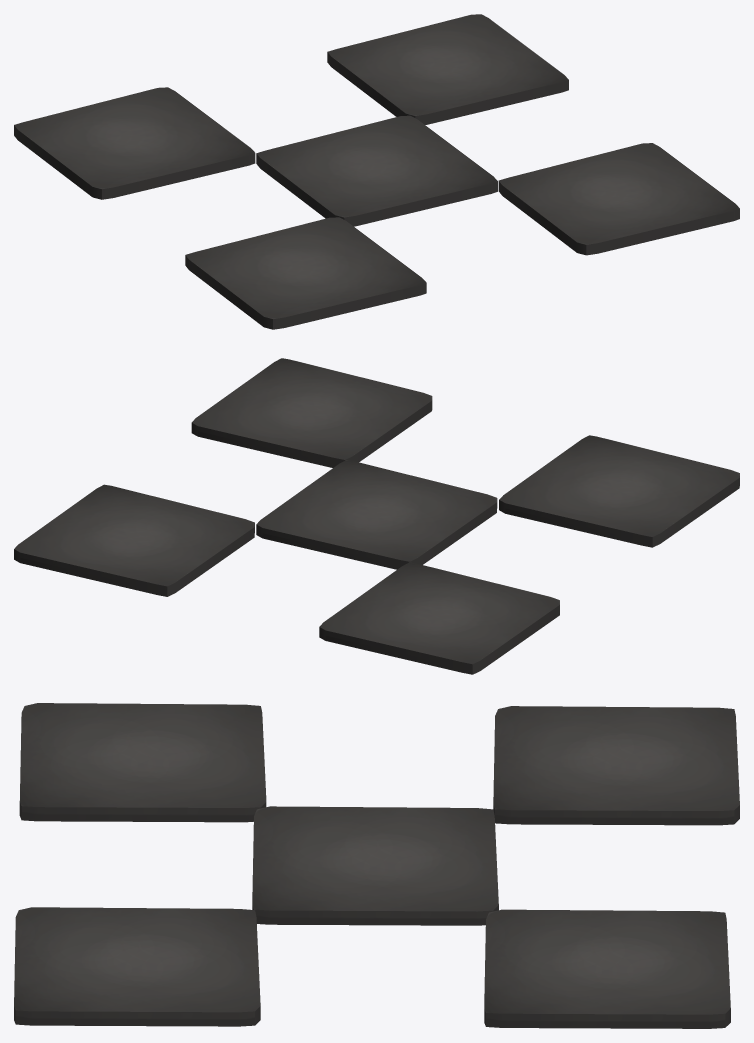
The model's file is tile_06.fbx.
The picture shows the model from 3 angles, top to bottom: view 1: azimuth 30°, elevation 25°; view 2: azimuth 150°, elevation 25°; view 3: azimuth 270°, elevation 25°; orthographic projection. The views are drawn at different scales.
Parts seen in each view (by area): view 1: Cube.029; view 2: Cube.029; view 3: Cube.029.
Part boxes in pixels (<box>): Cube.029: <box>14,14,739,329</box>; Cube.029: <box>14,358,739,674</box>; Cube.029: <box>14,703,739,1028</box>.
Bounding box in the file's own units: 172 × 3.72 × 174.
